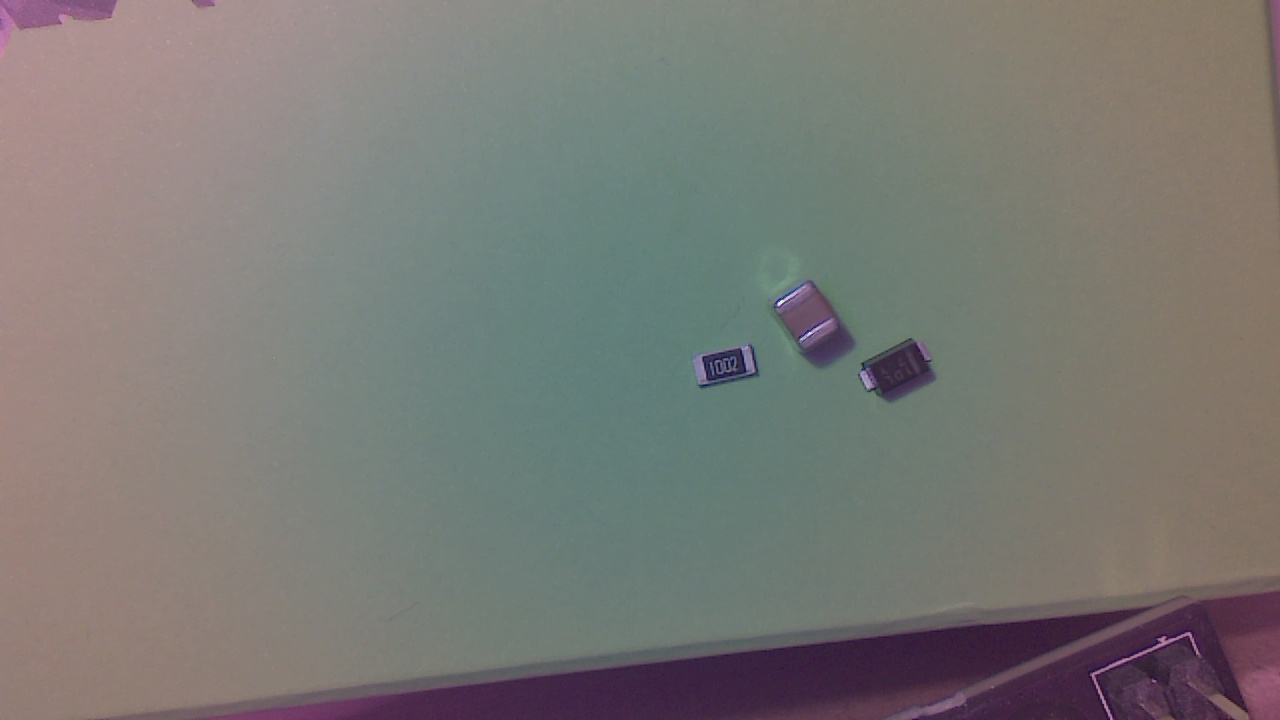Condensator: (775, 287, 850, 354)
Diode: (863, 345, 939, 399)
Resistor: (695, 349, 763, 394)
